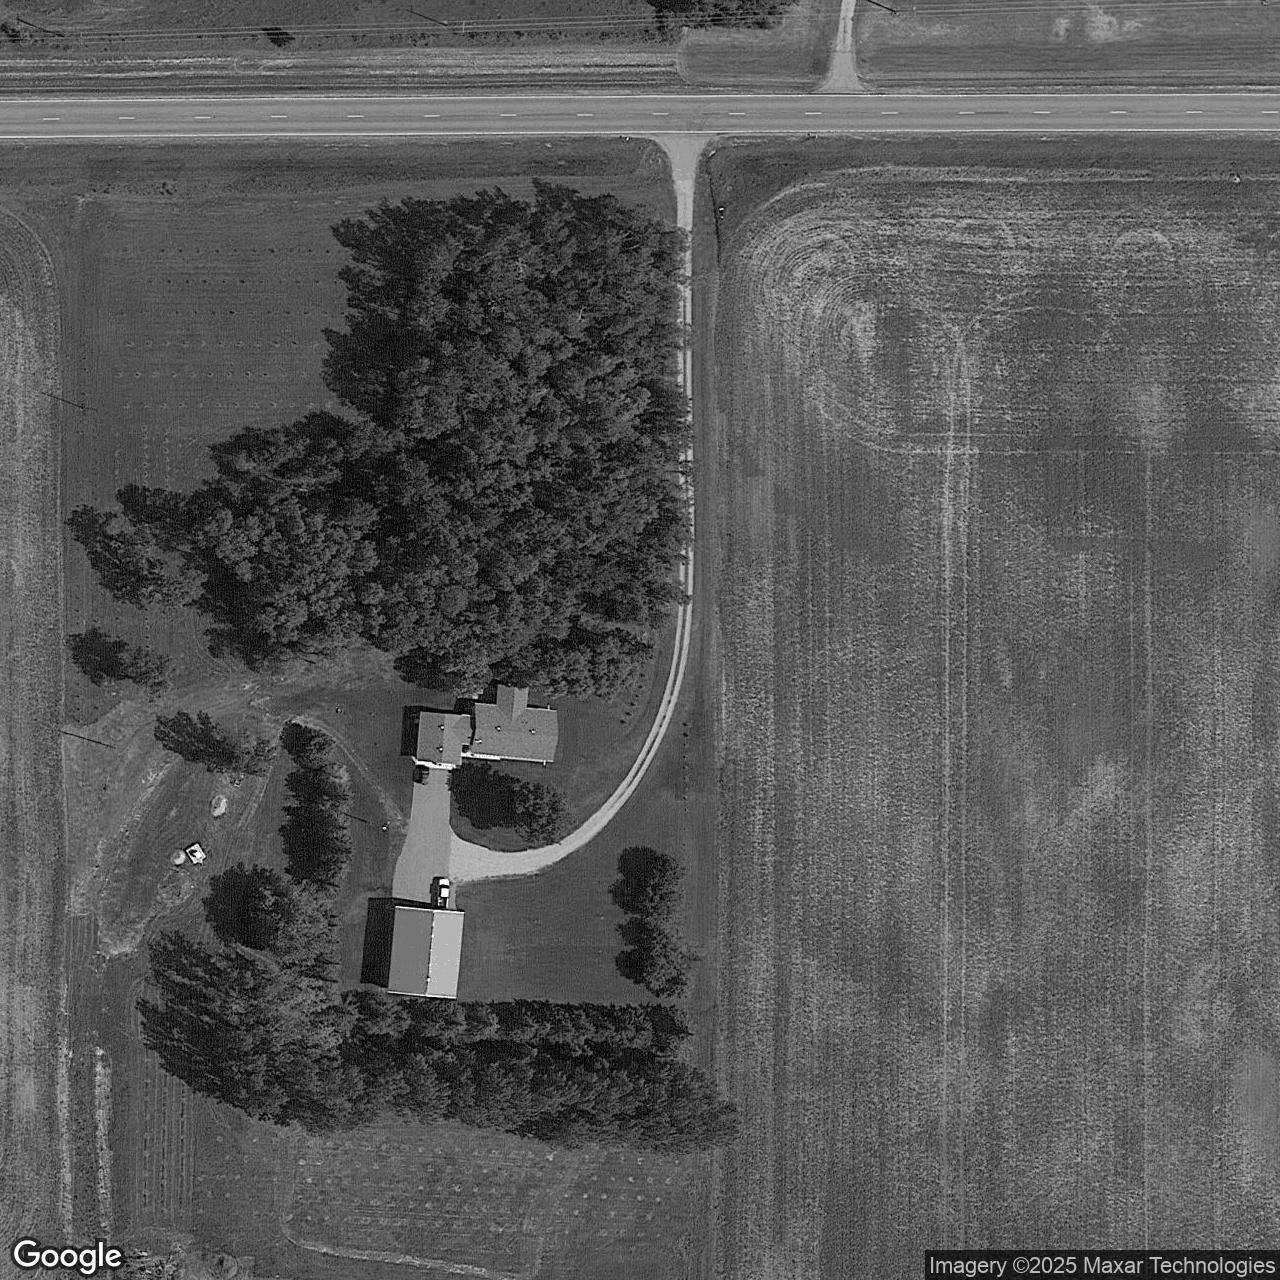Garage: (387, 905, 465, 999)
House: (416, 685, 558, 765)
